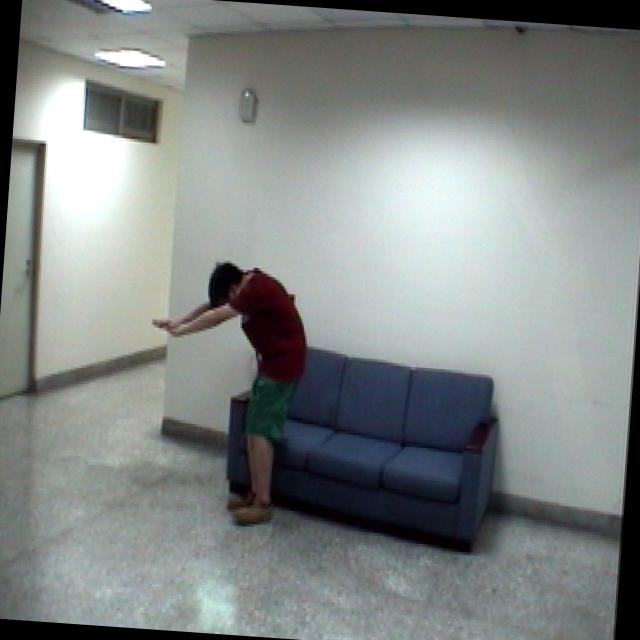bend: (135, 252, 314, 534)
